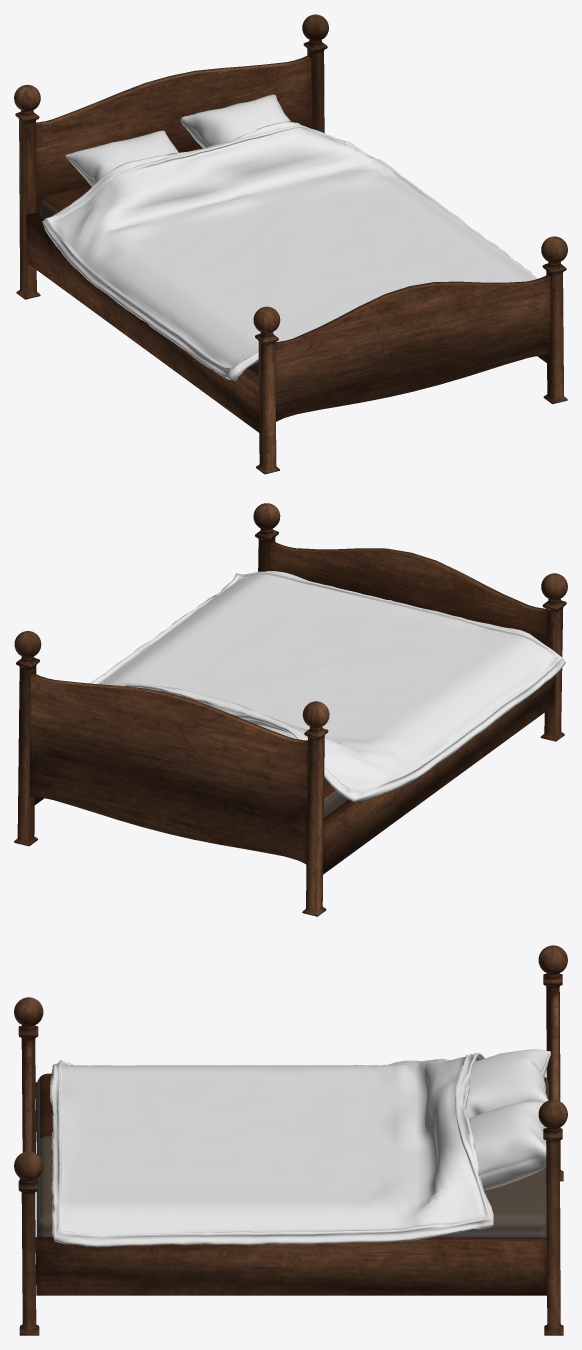
3 views of the same model, one above another, from view 1: azimuth 30°, elevation 25°; view 2: azimuth 150°, elevation 25°; view 3: azimuth 270°, elevation 25° (orthographic). The views are drawn at different scales.
Visible parts, largest first — view 1: Plane.002, Structure1_low.002, Plane.001, Plane, Cube; view 2: Structure1_low.002, Plane.002; view 3: Plane.002, Structure1_low.002, Cube, Plane.001, Plane.
Part boxes in pixels (box(x1,y1,x2,y2)): Plane.002: box(42, 121, 537, 380); Structure1_low.002: box(14, 14, 567, 474); Plane.001: box(180, 94, 290, 148); Plane: box(65, 130, 178, 186); Cube: box(40, 185, 258, 375); Structure1_low.002: box(14, 503, 567, 916); Plane.002: box(90, 571, 565, 801); Plane.002: box(50, 1053, 493, 1247); Structure1_low.002: box(14, 945, 567, 1335); Cube: box(36, 1073, 548, 1237); Plane.001: box(468, 1101, 546, 1190); Plane: box(466, 1049, 550, 1117).
Bounding box in the file's own units: 335 × 202 × 441.
